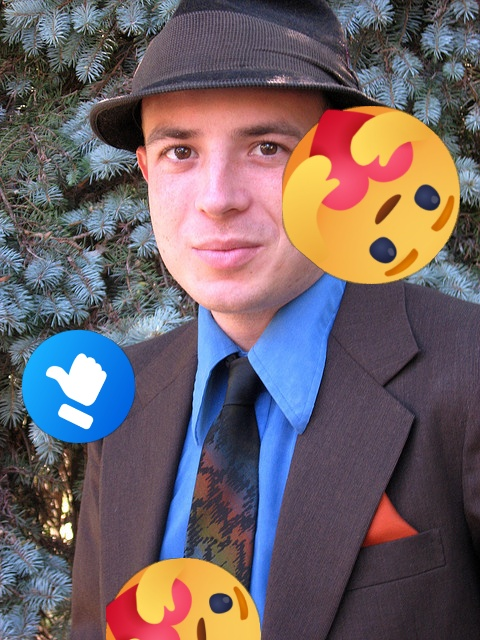care: (282, 106, 460, 284), (106, 558, 261, 640)
like: (22, 330, 135, 443)
